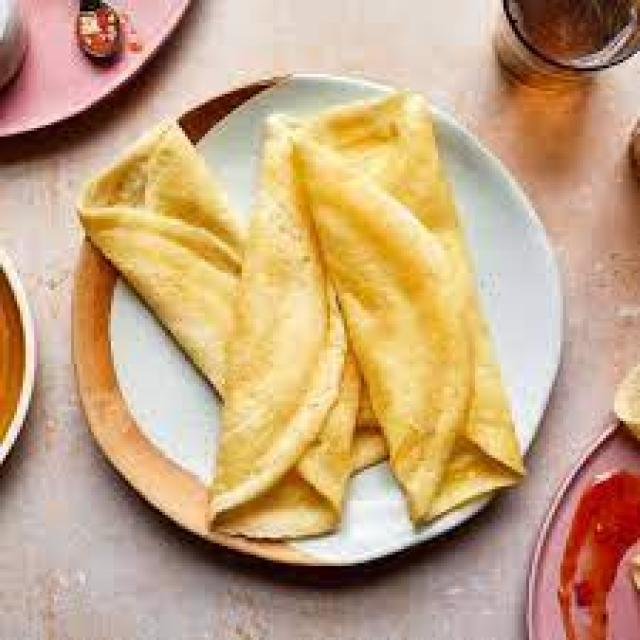Wet Waste: (60, 105, 384, 461), (296, 65, 535, 538), (202, 102, 358, 555)
